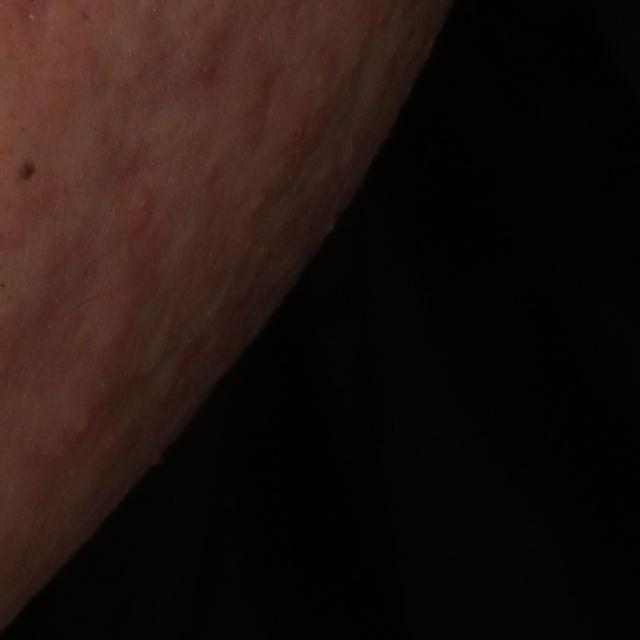nevus: (13, 152, 40, 198)
papule: (126, 184, 162, 245)
